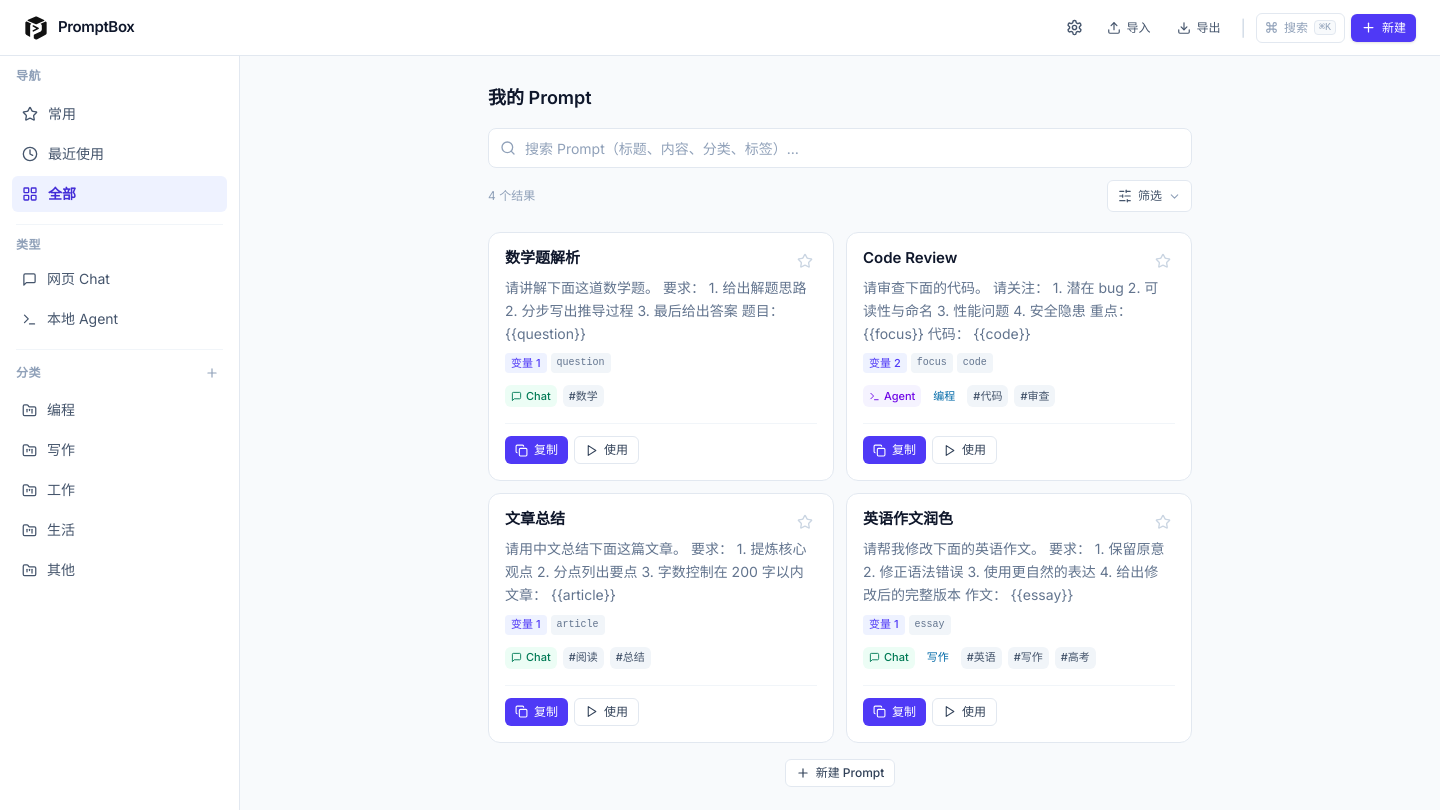
Test case: App integration › filters favorites and requires a star to add
Click the 4th button named "收藏" at [1163, 522], box [1151, 510, 1175, 534]
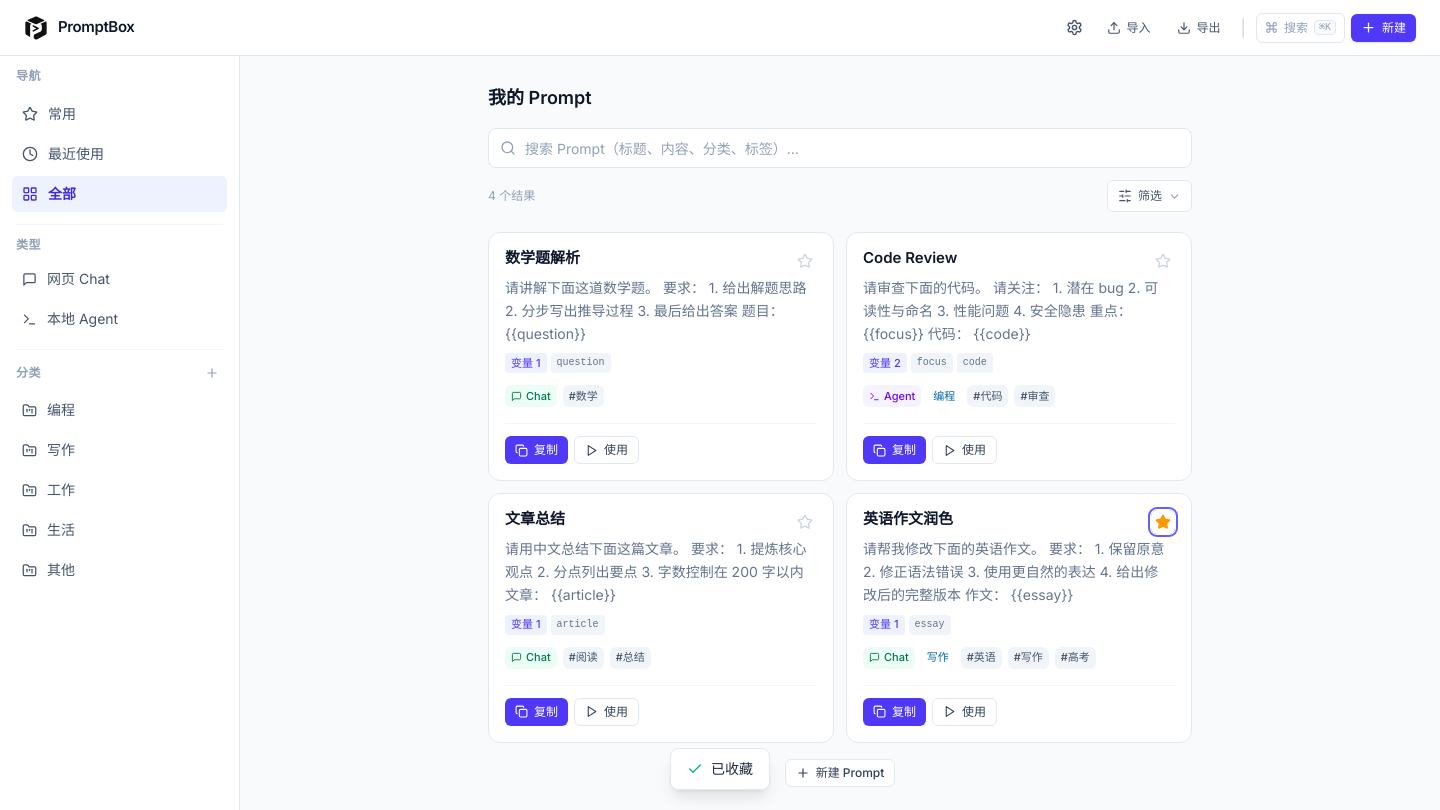
// 「常用」仍然在侧栏，而且只有它一个高亮
Click the button "常用" at [120, 114], box [12, 96, 227, 132]
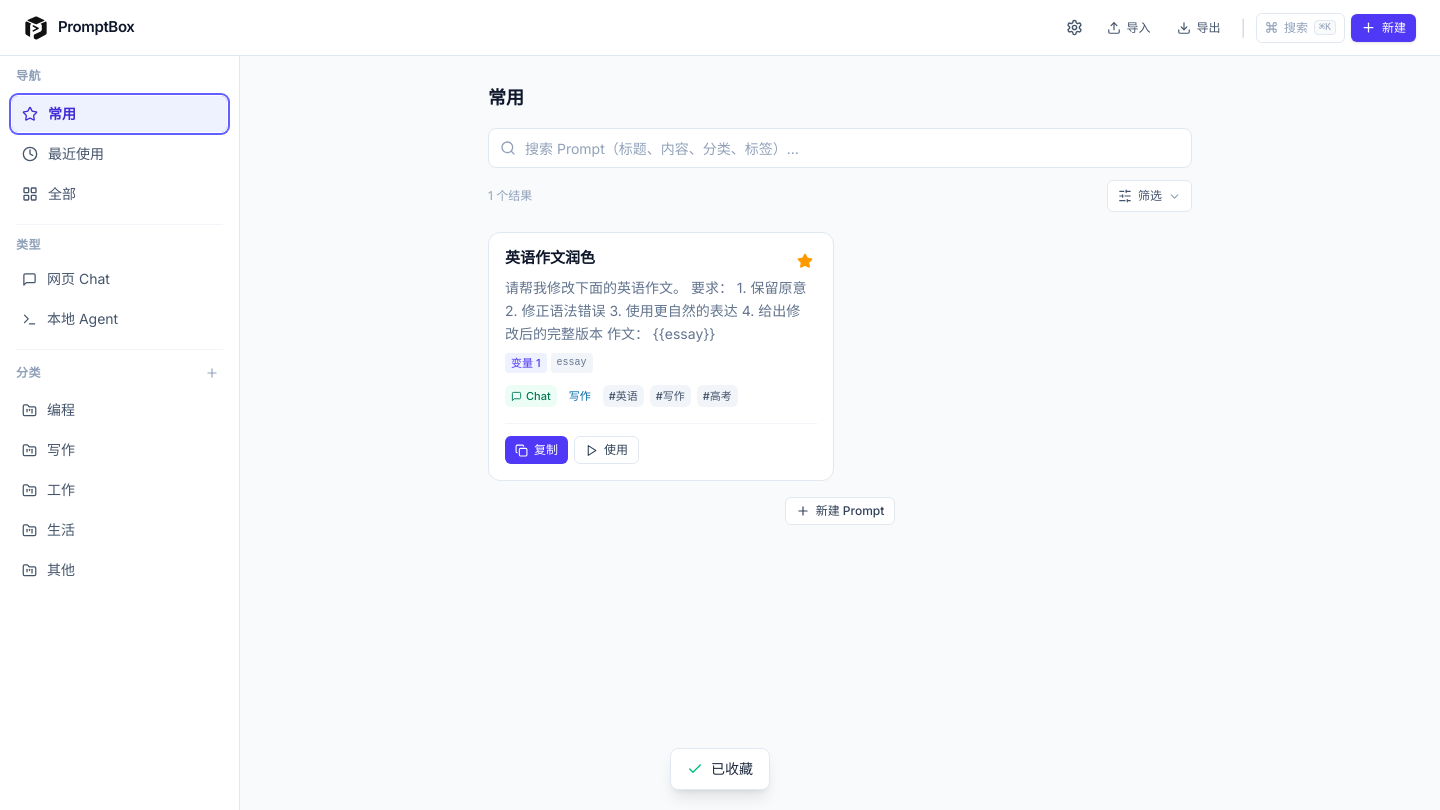
Check: the button "英语作文润色" is shown, box [503, 247, 597, 270]
Check: the button "Code Review" is gone
Click the button "全部" at [120, 194], box [12, 176, 227, 212]
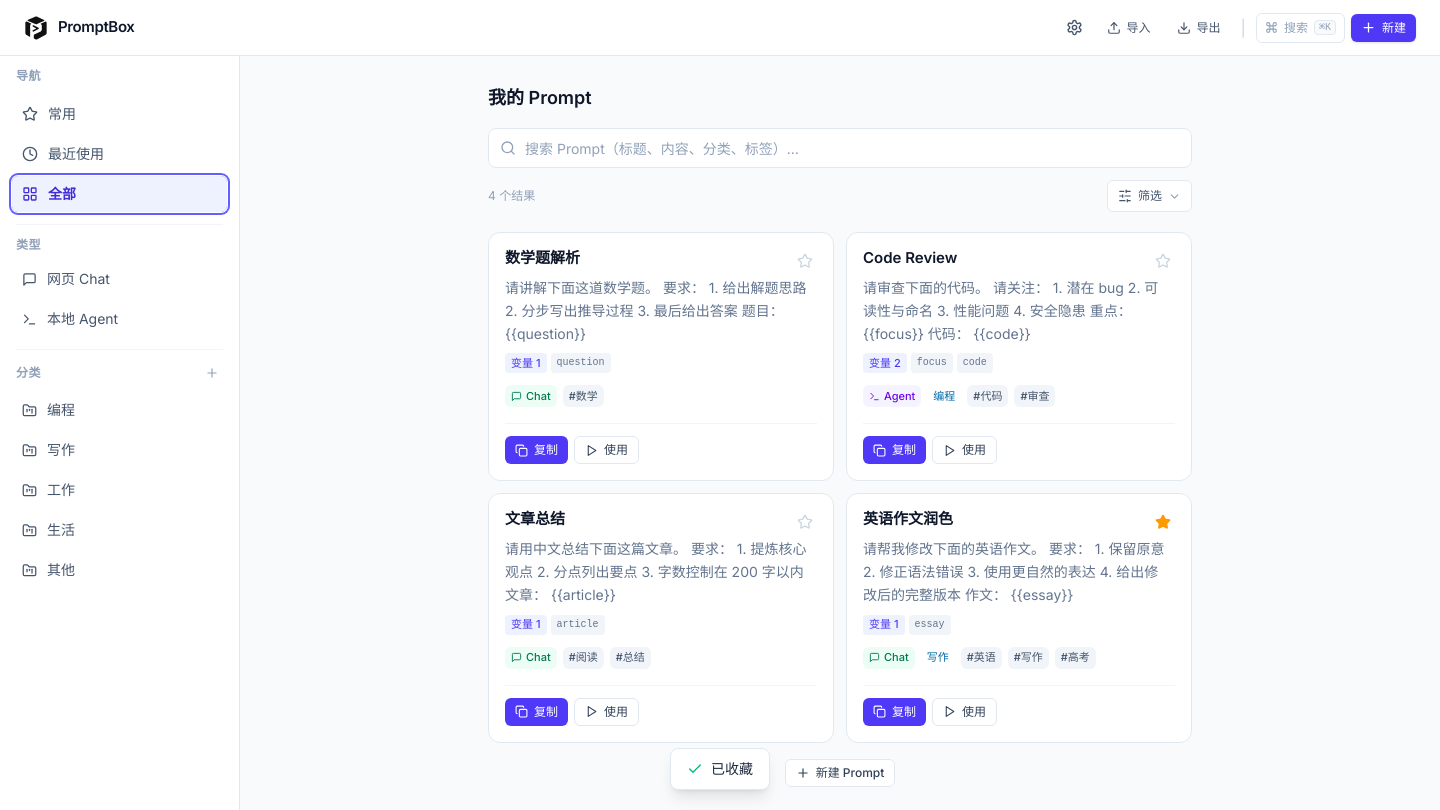
Check: the button "Code Review" is shown, box [861, 247, 959, 270]
